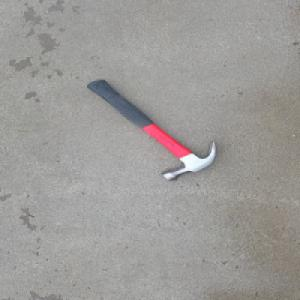Hammer: (86, 78, 218, 181)
